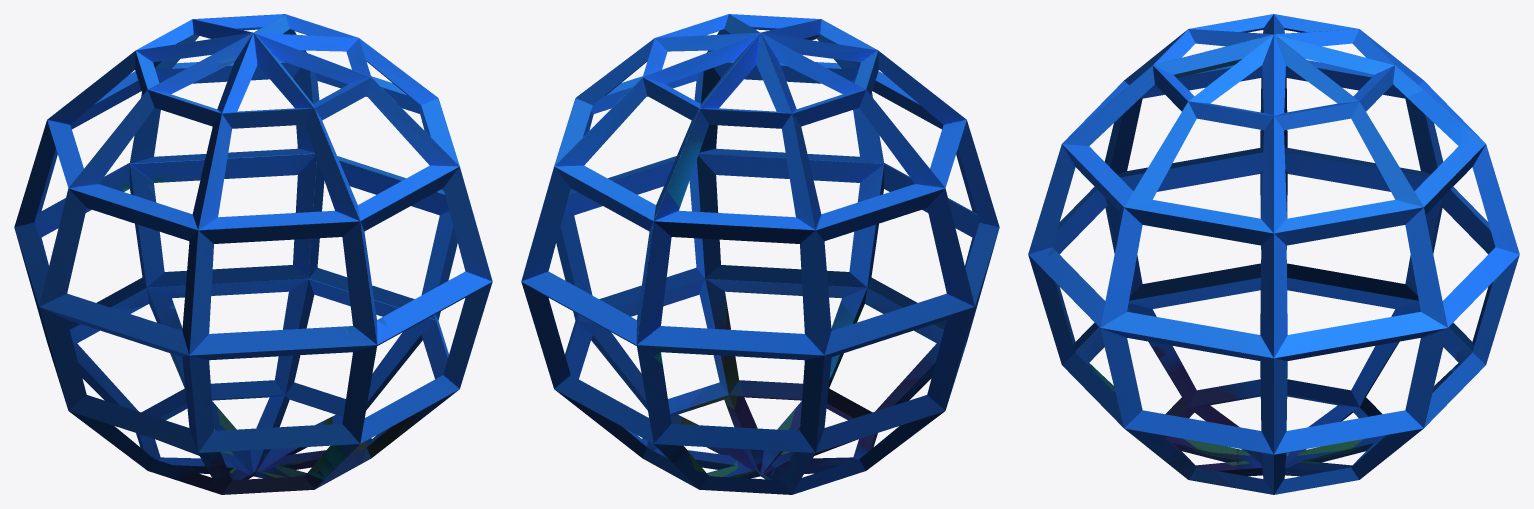
The model's file is Emoji_globe_with_meridians.glb.
3 renders of one model, left to right at view 1: azimuth 30°, elevation 25°; view 2: azimuth 150°, elevation 25°; view 3: azimuth 270°, elevation 25°, orthographic.
Visible parts, largest first — view 1: Emoji; view 2: Emoji; view 3: Emoji.
Part boxes in pixels (box(x1,y1,x2,y2)): Emoji: box(14, 14, 492, 494); Emoji: box(521, 14, 999, 494); Emoji: box(1028, 14, 1519, 494).
Size of the model in its own units: 0.8788 by 0.8686 by 0.8788.
Materials: 1 (1 with a texture image).
